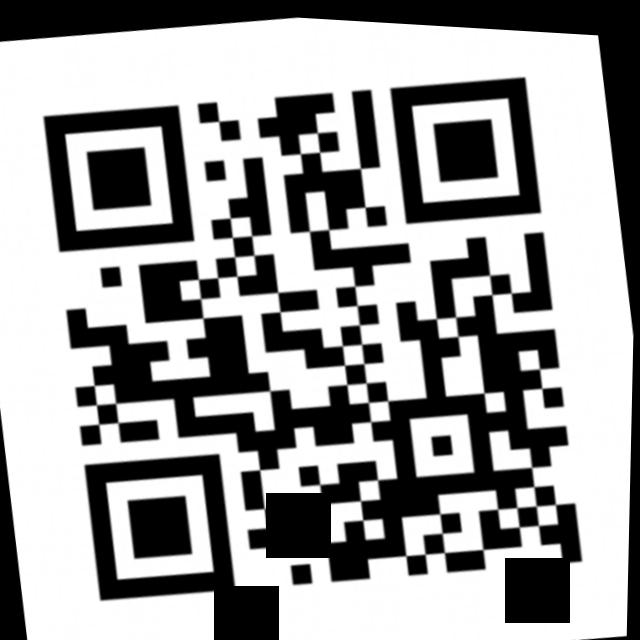QR_CODE: (22, 36, 605, 640)
